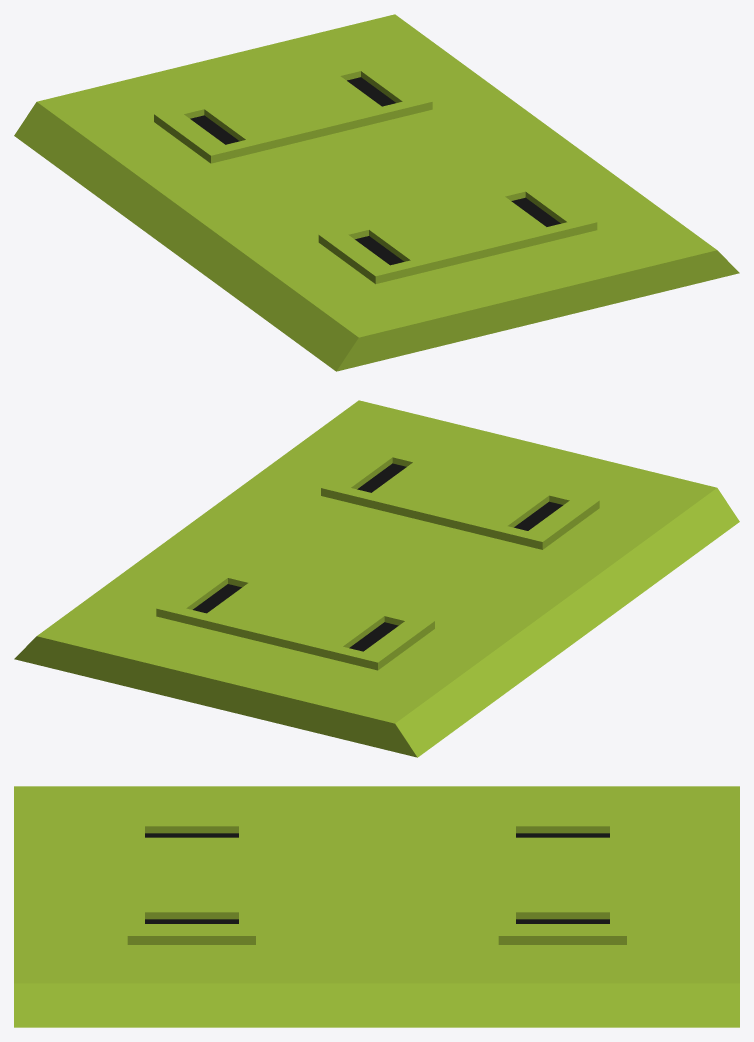
The model's file is Mesh_MtPanorama_Socket.FBX.
The picture shows the model from 3 angles, top to bottom: view 1: azimuth 30°, elevation 25°; view 2: azimuth 150°, elevation 25°; view 3: azimuth 270°, elevation 25°; orthographic projection. The views are drawn at different scales.
Parts seen in each view (by area): view 1: Mesh_MtPanorama_Socket; view 2: Mesh_MtPanorama_Socket; view 3: Mesh_MtPanorama_Socket.
Part boxes in pixels (box(x1,y1,x2,y2)): Mesh_MtPanorama_Socket: box(14, 14, 739, 371); Mesh_MtPanorama_Socket: box(14, 400, 739, 757); Mesh_MtPanorama_Socket: box(14, 786, 739, 1027).
Size of what is drawn, in the model's own units: 269 by 372 by 23.2.
